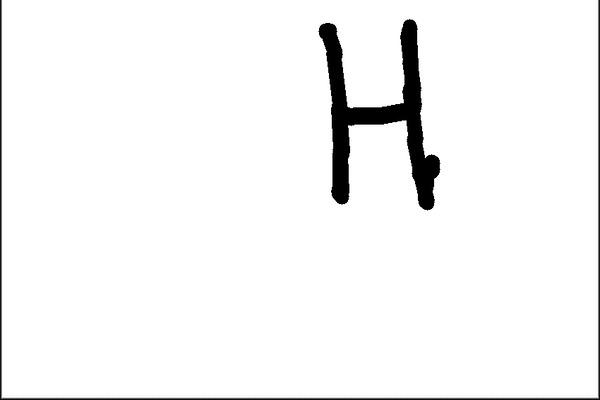H: (310, 14, 443, 212)
